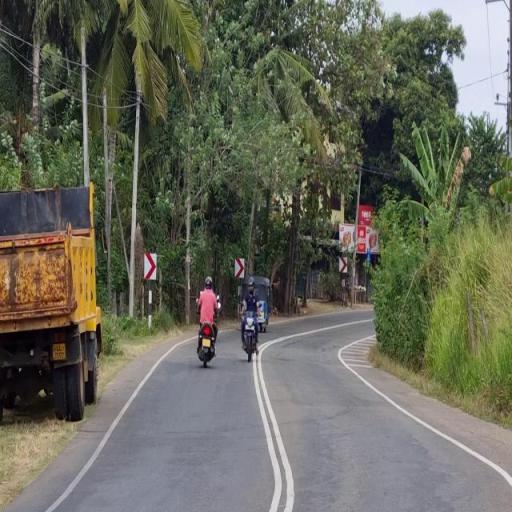double_white_line: (251, 333, 294, 512), (0, 22, 35, 74)
